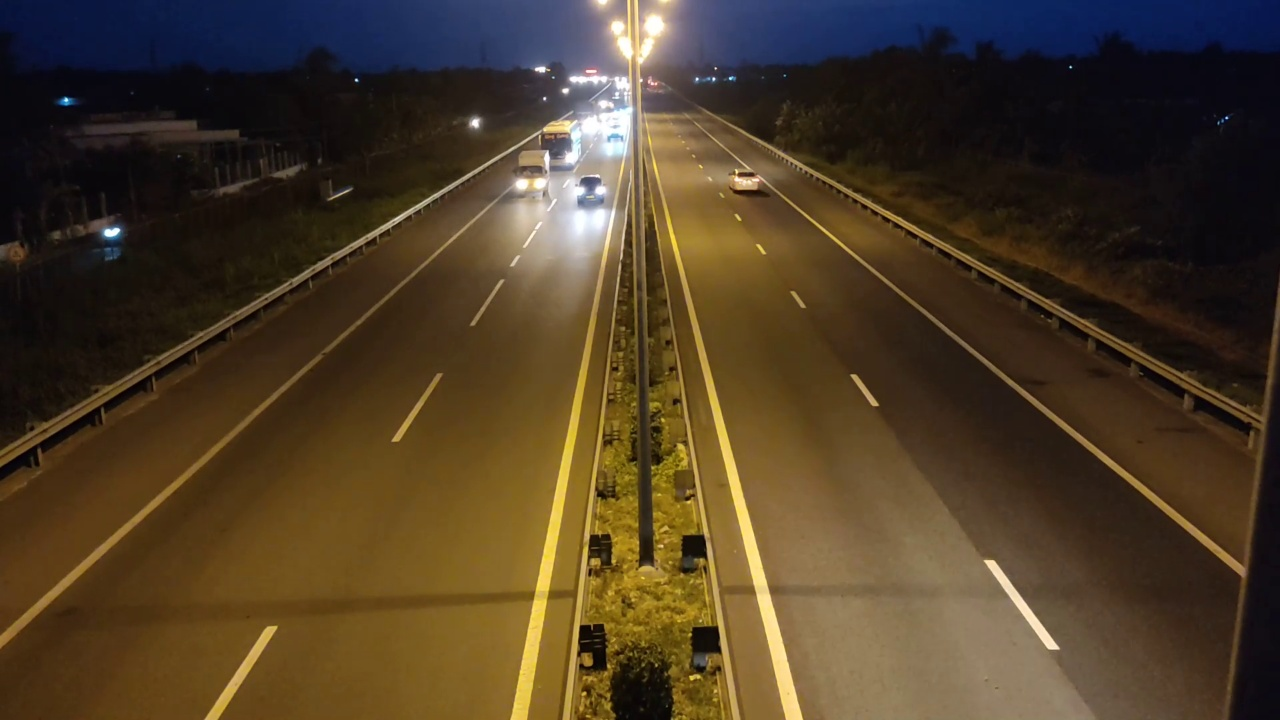car: (575, 173, 607, 207), (727, 169, 761, 193)
